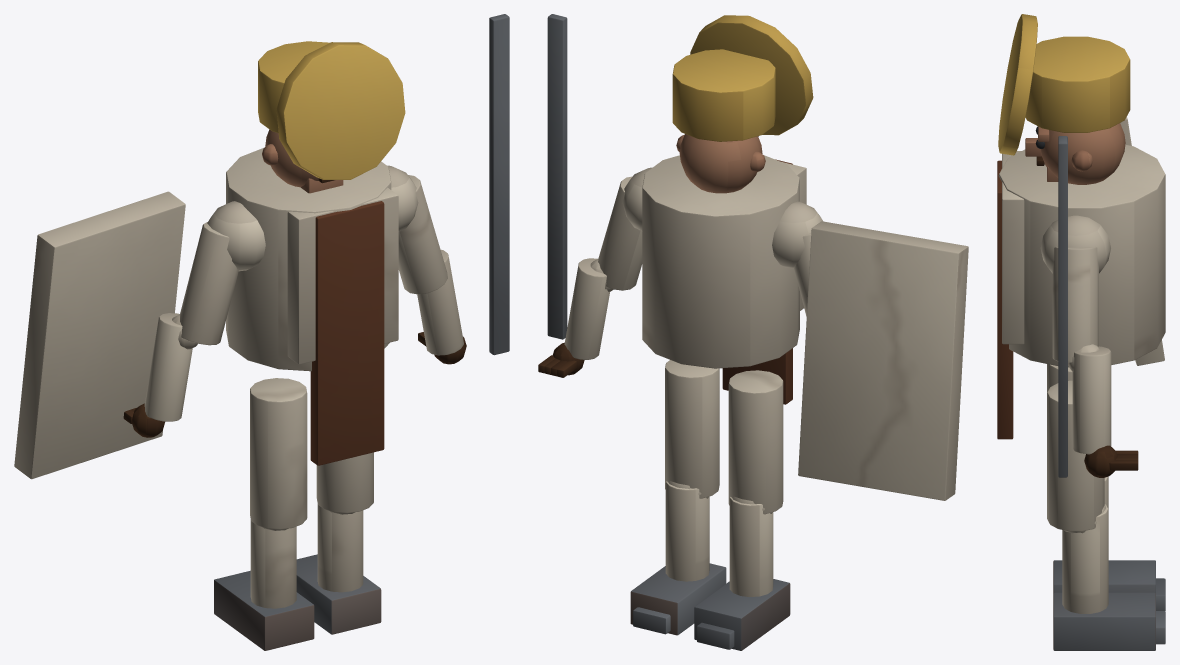
The model's file is unit_church_eclipse_warden.fbx.
3 renders of one model, left to right at view 1: azimuth 30°, elevation 25°; view 2: azimuth 150°, elevation 25°; view 3: azimuth 270°, elevation 25°, orthographic. The views are drawn at different scales.
Visible parts, largest first — view 1: unit_church_eclipse_warden; view 2: unit_church_eclipse_warden; view 3: unit_church_eclipse_warden.
Part boxes in pixels (left/top/right/bottom): unit_church_eclipse_warden: left=14, top=14, right=509, bottom=650; unit_church_eclipse_warden: left=538, top=14, right=968, bottom=650; unit_church_eclipse_warden: left=997, top=14, right=1165, bottom=650.
Size of the model in its own units: 1.63 by 2.07 by 0.525.
